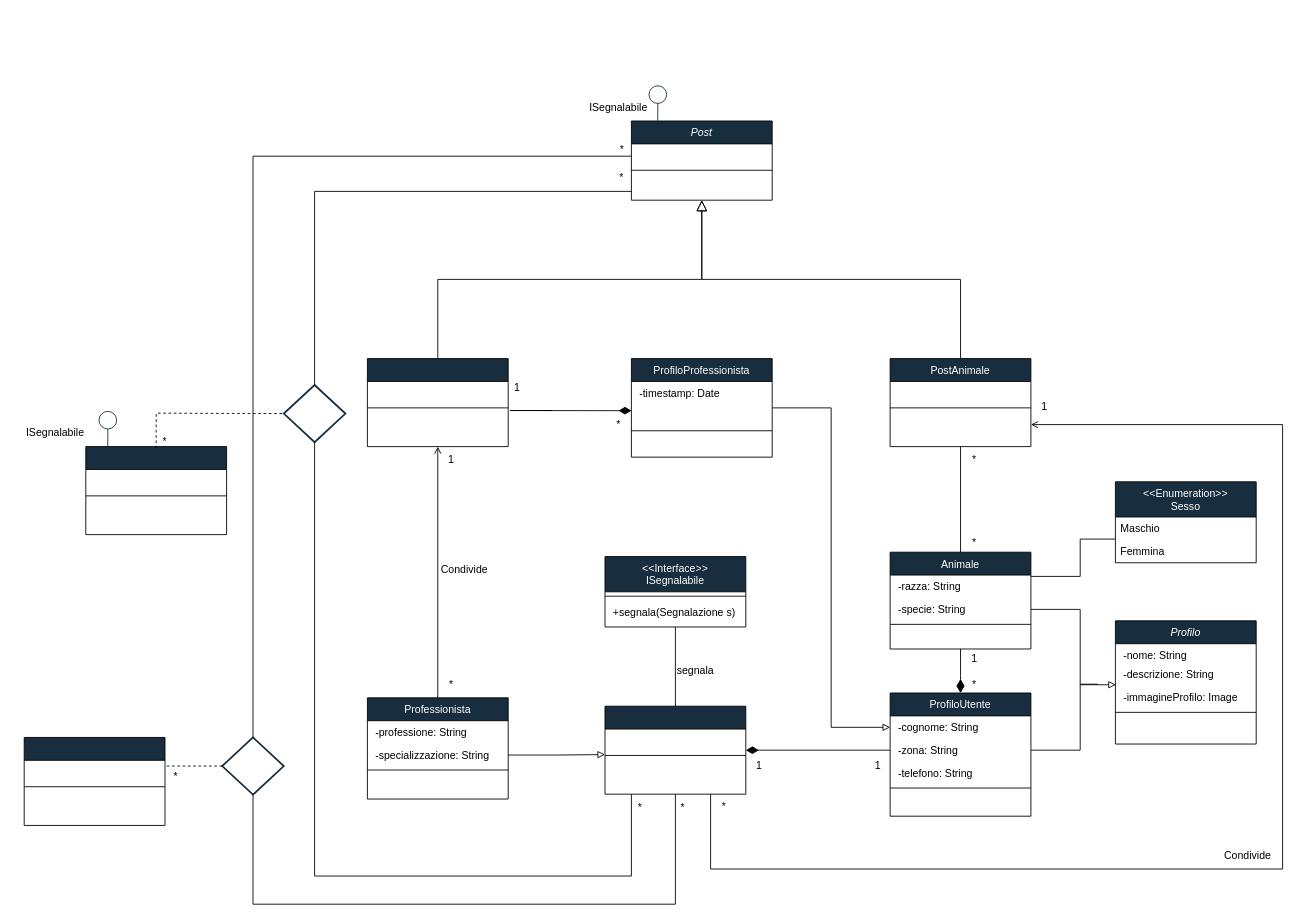
Image size: 1305x920. Some labels were removed from this diagram. Here are the shapes that lost their labels. From the top down, the centre of each, then its label:
At point (437, 402): "ProPost".
At point (156, 490): "Commento".
At point (675, 749): "UtenteStandard".
At point (94, 781): "Like".
